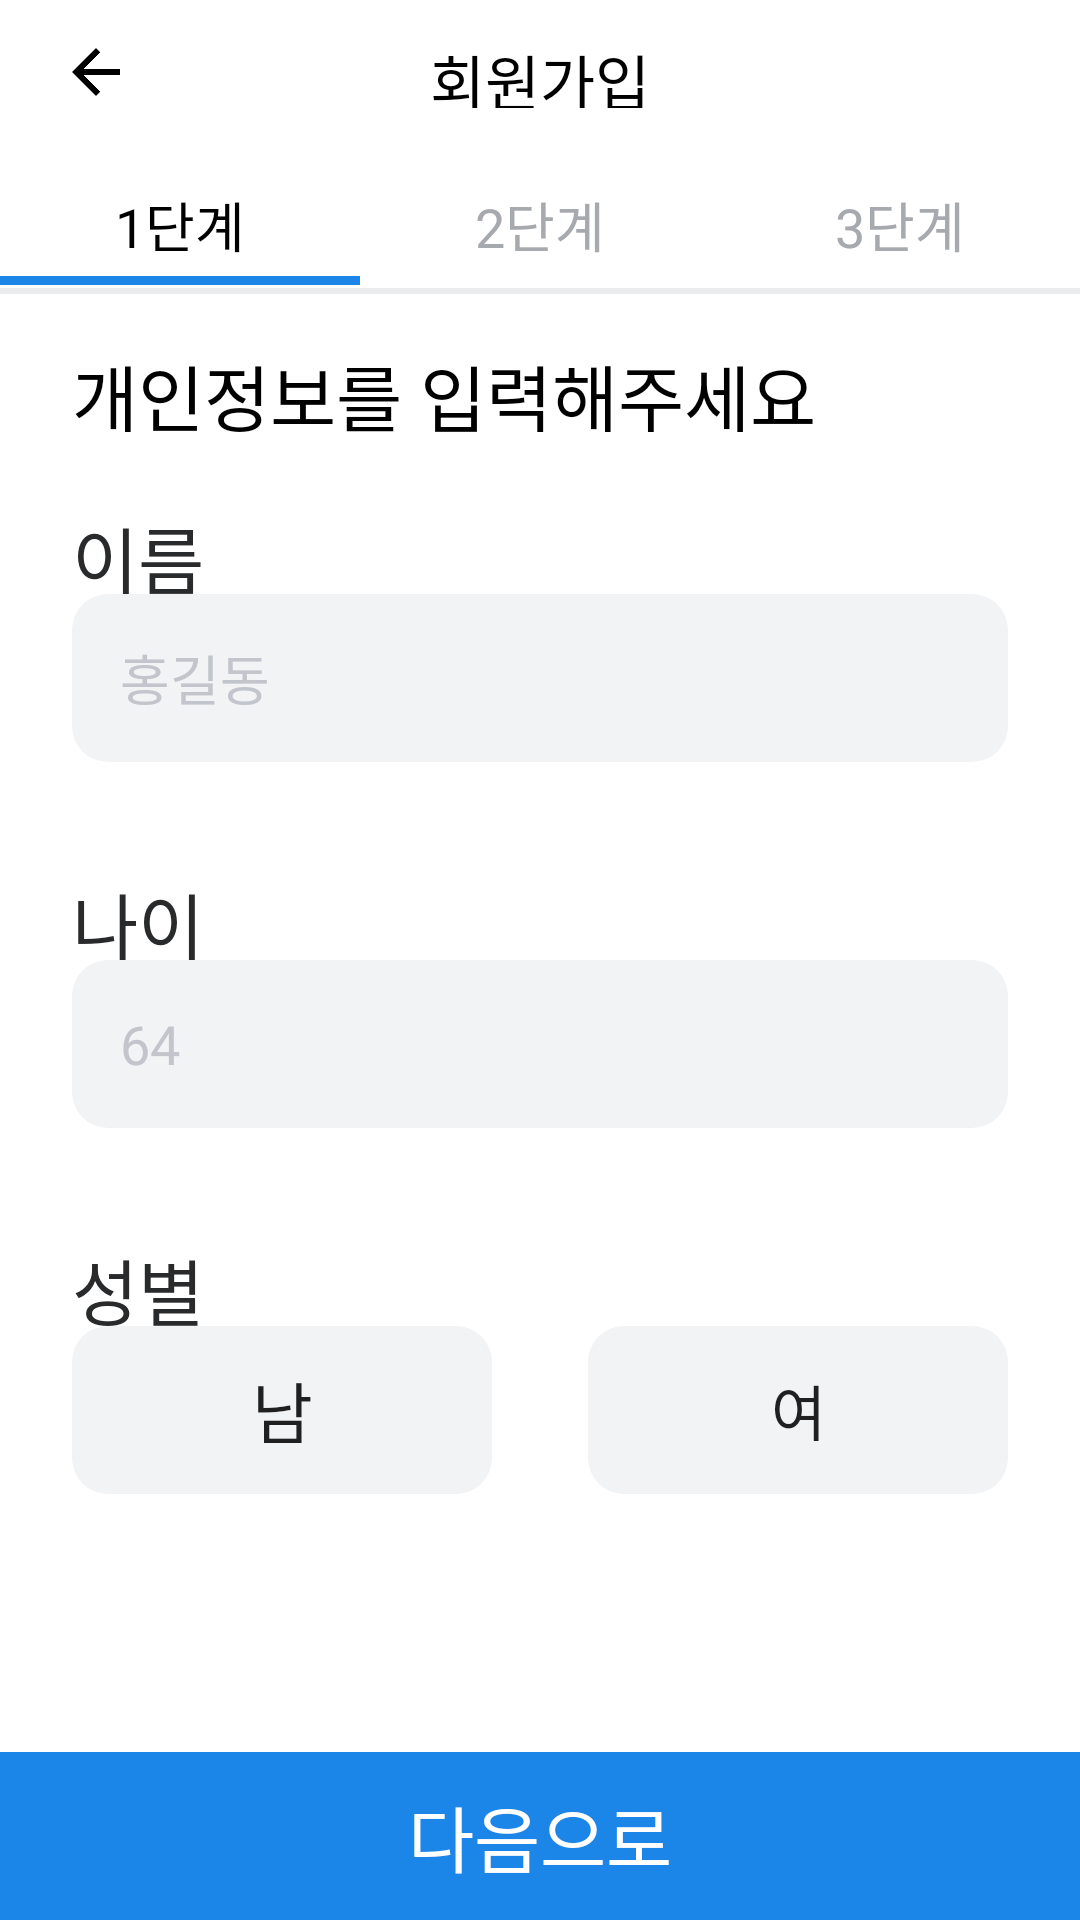

Named icons in this screenshot (1080px×1920px) and their centers, (x=x, y=y):
arrow back: (x=96, y=72)
